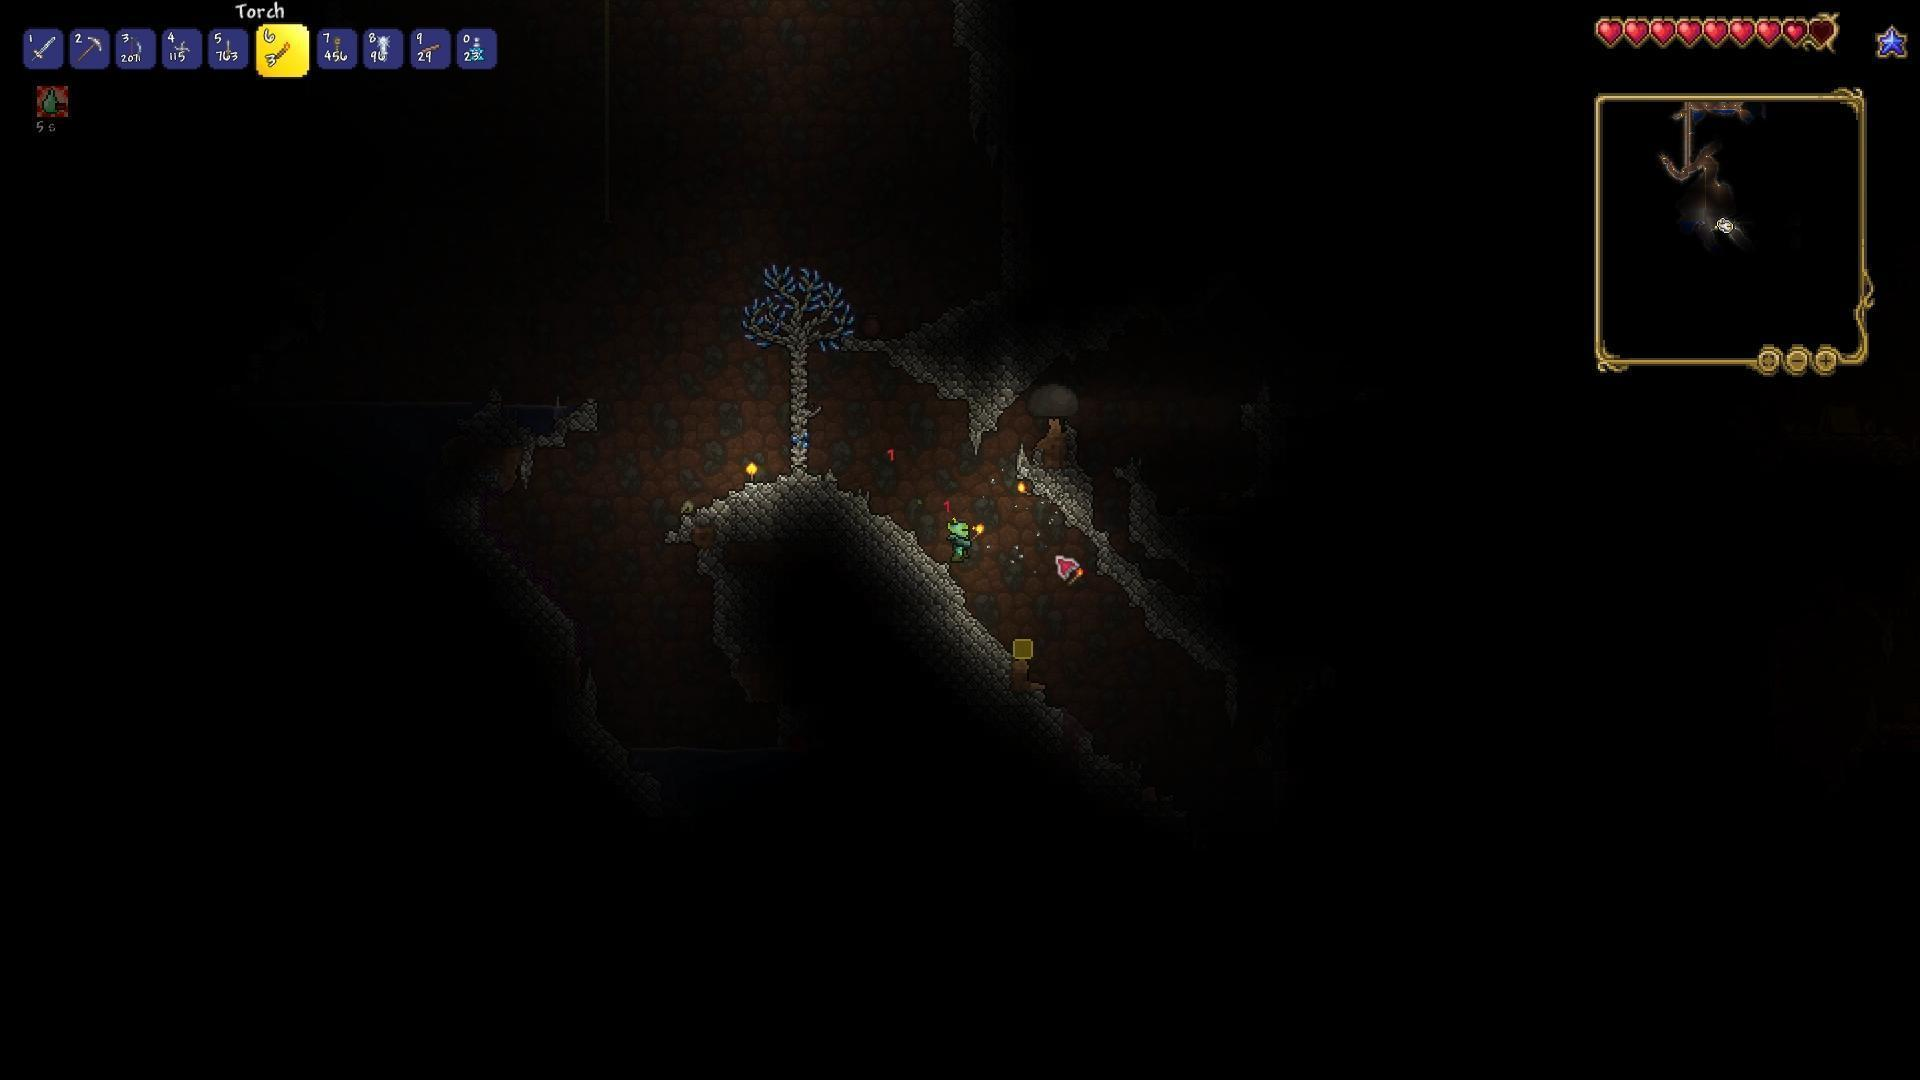bow: (127, 33, 144, 62)
knife: (224, 36, 233, 57)
pickaxe: (73, 34, 104, 61)
recallP: (465, 34, 485, 61)
rope: (378, 36, 392, 61), (332, 34, 343, 58)
shuriken: (171, 40, 190, 58)
slime: (1021, 382, 1083, 426)
sword: (29, 36, 57, 62)
